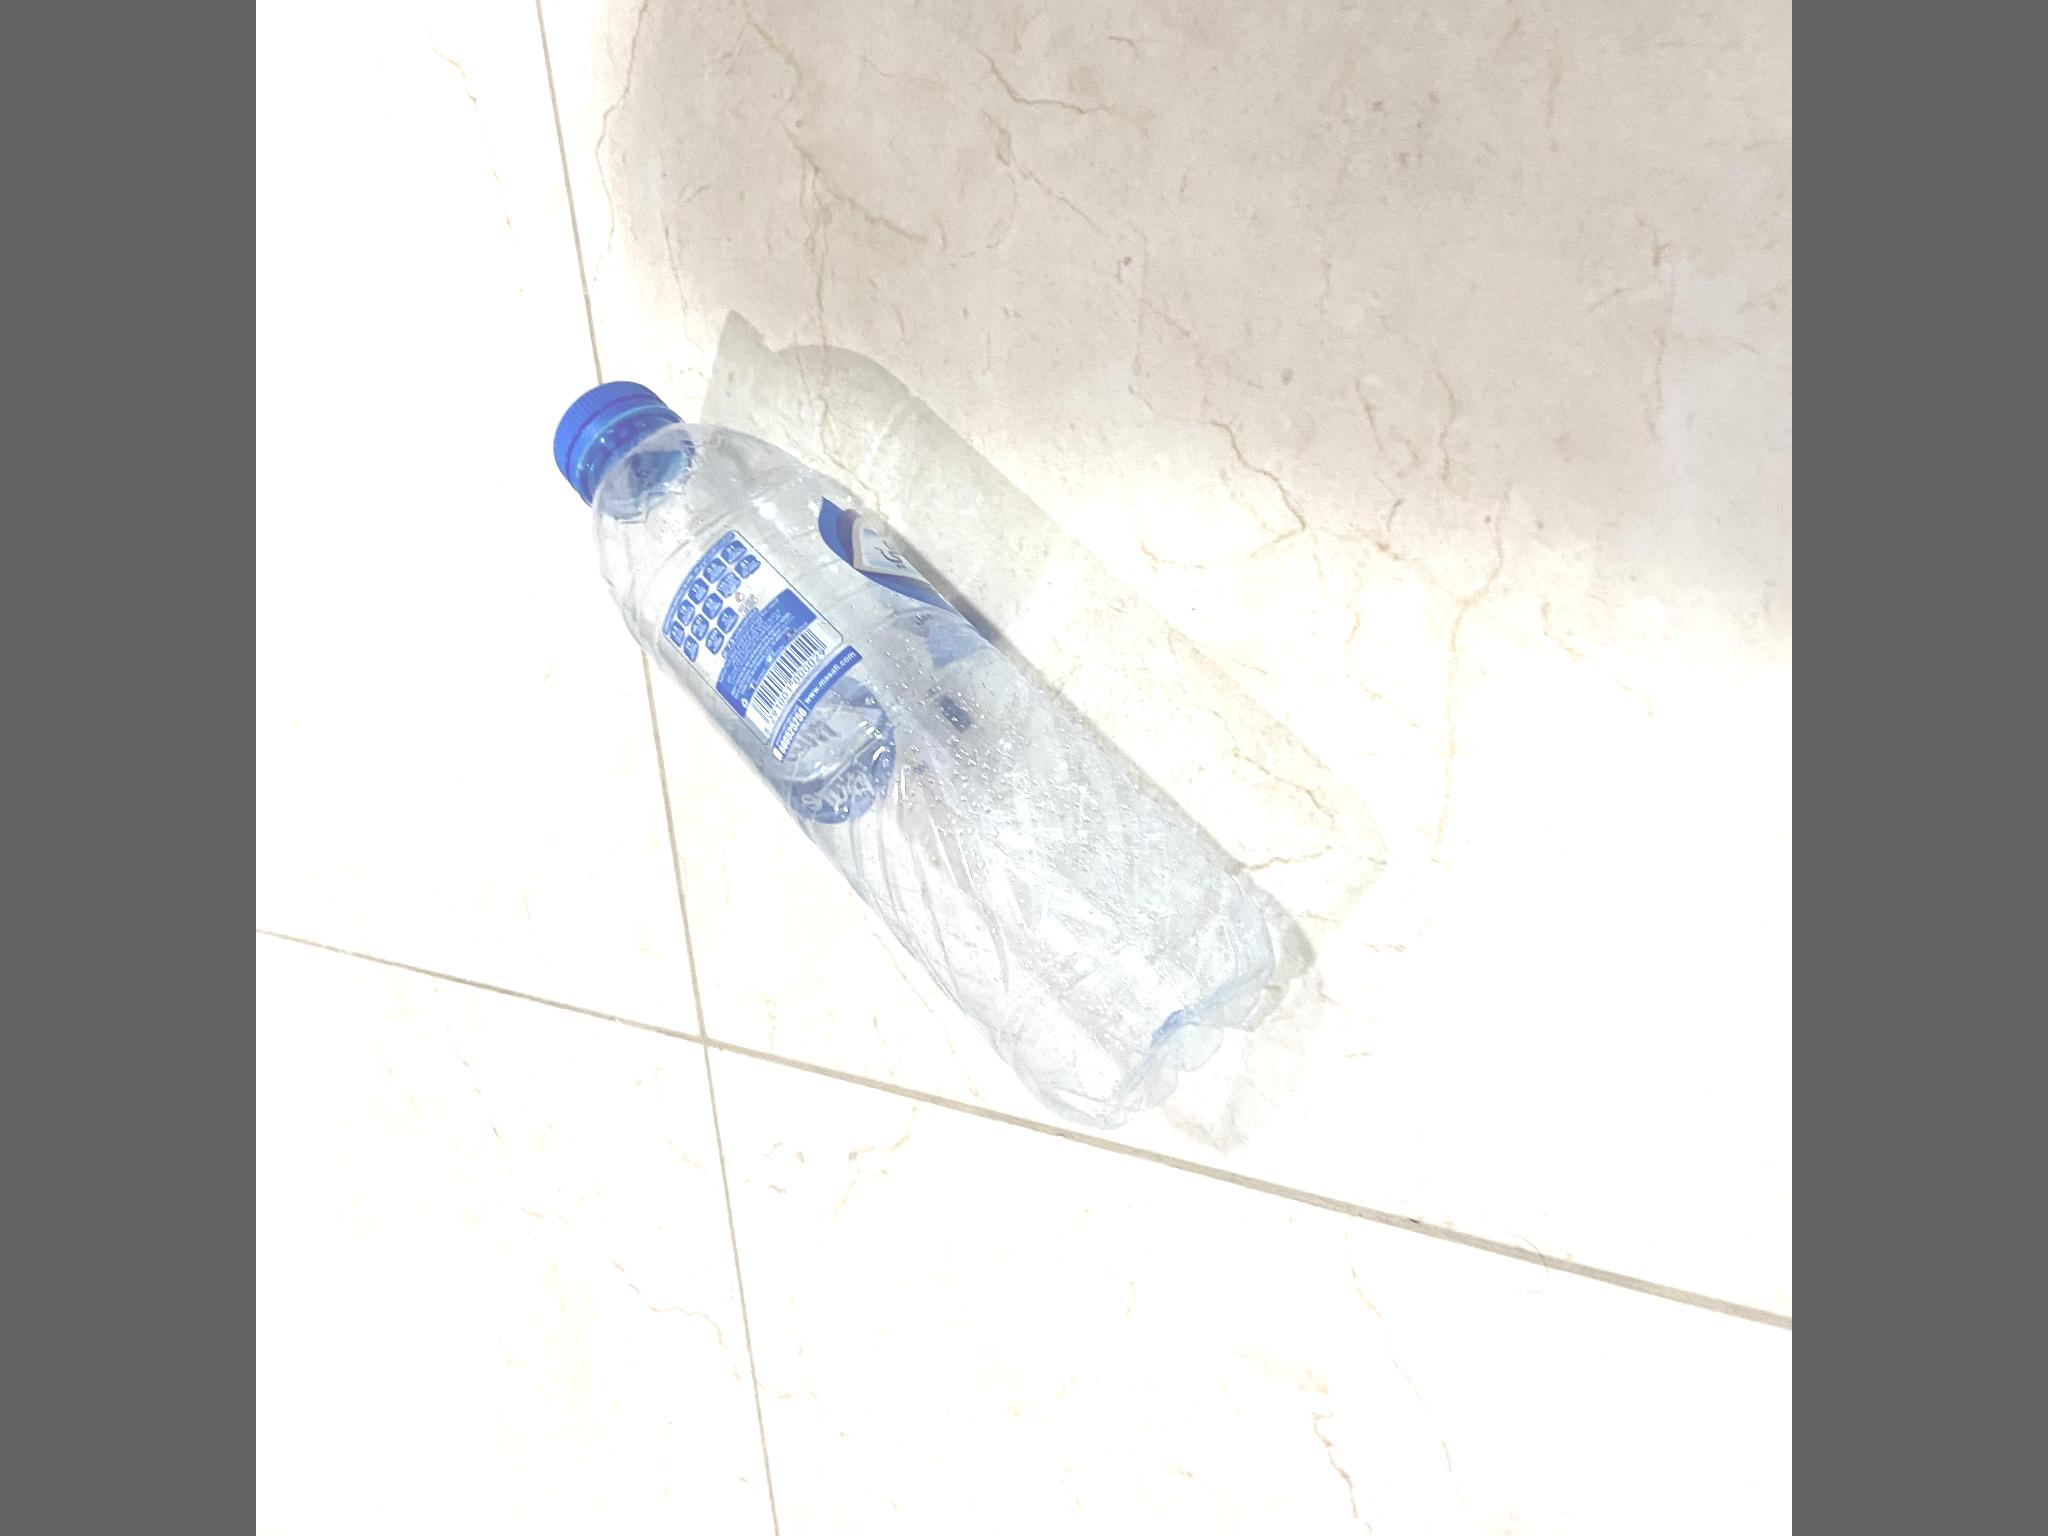bottle: (534, 360, 1322, 1134)
